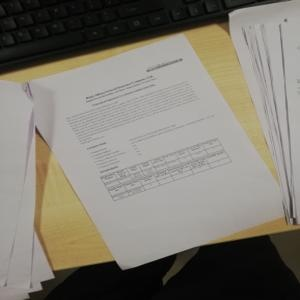table: (101, 139, 231, 197)
text: (66, 78, 200, 142), (81, 112, 215, 174), (79, 74, 168, 107)
